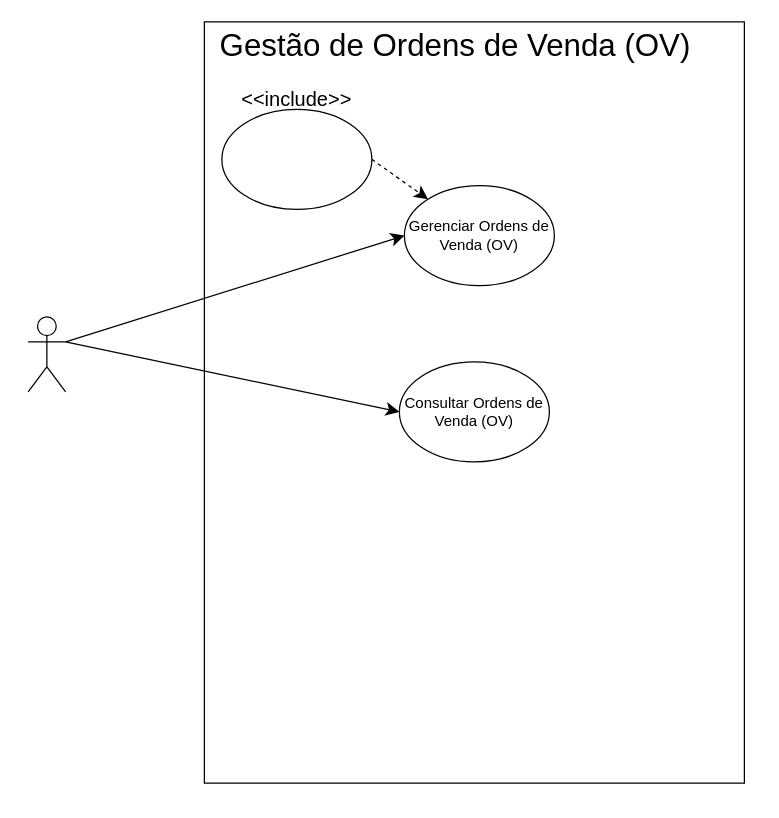
Some shapes in this 779 by 818 pixel diagram are drawn without their labels. The shapes that lost their labels are listed below. From the top down, each one's centre as x and y in pixels, then its label:
At (x=296, y=158): "Validar OV".
At (x=46, y=354): "Usuário".
